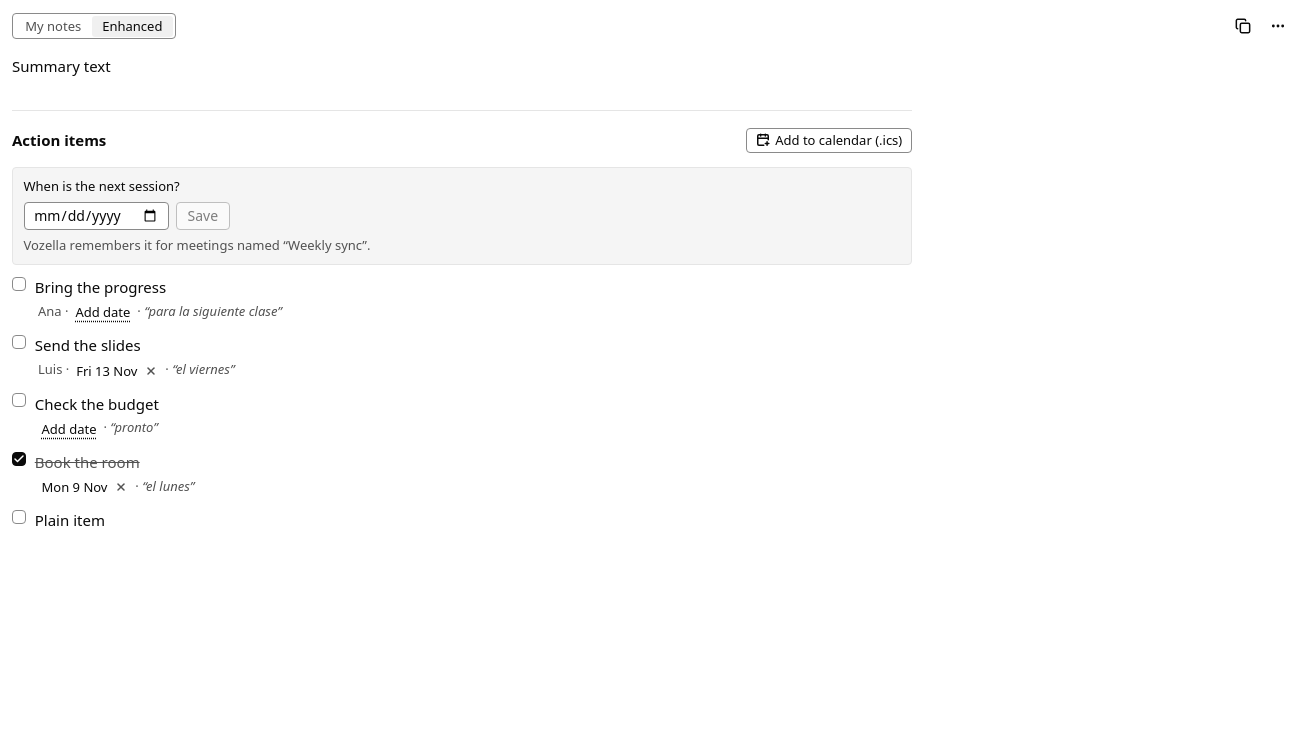
Test: action item details › Escape leaves the date as it was and sends nothing
Click the button with aria-label "Change the date, Fri 13 Nov": (107, 370) [73,360,141,381]
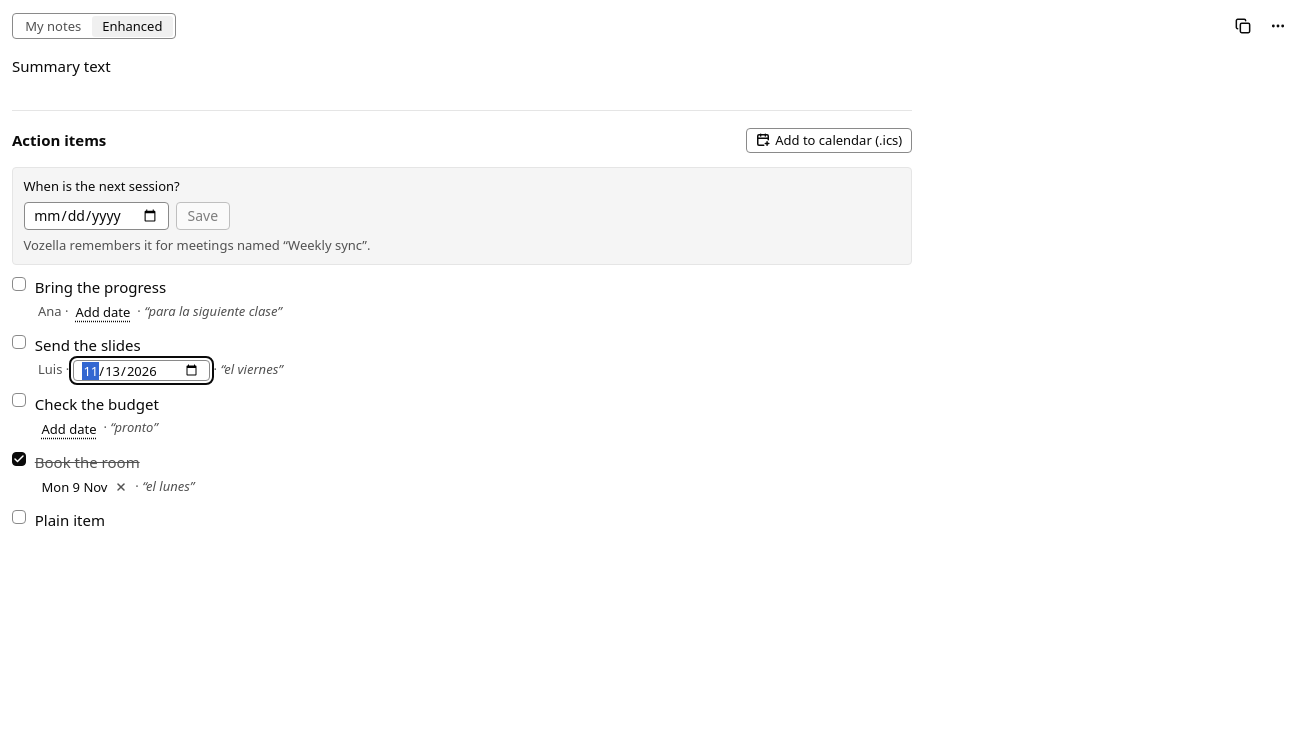
In the date field named "Due date for Send the slides": (141, 370) [73,360,210,381], type "2026-11-20"
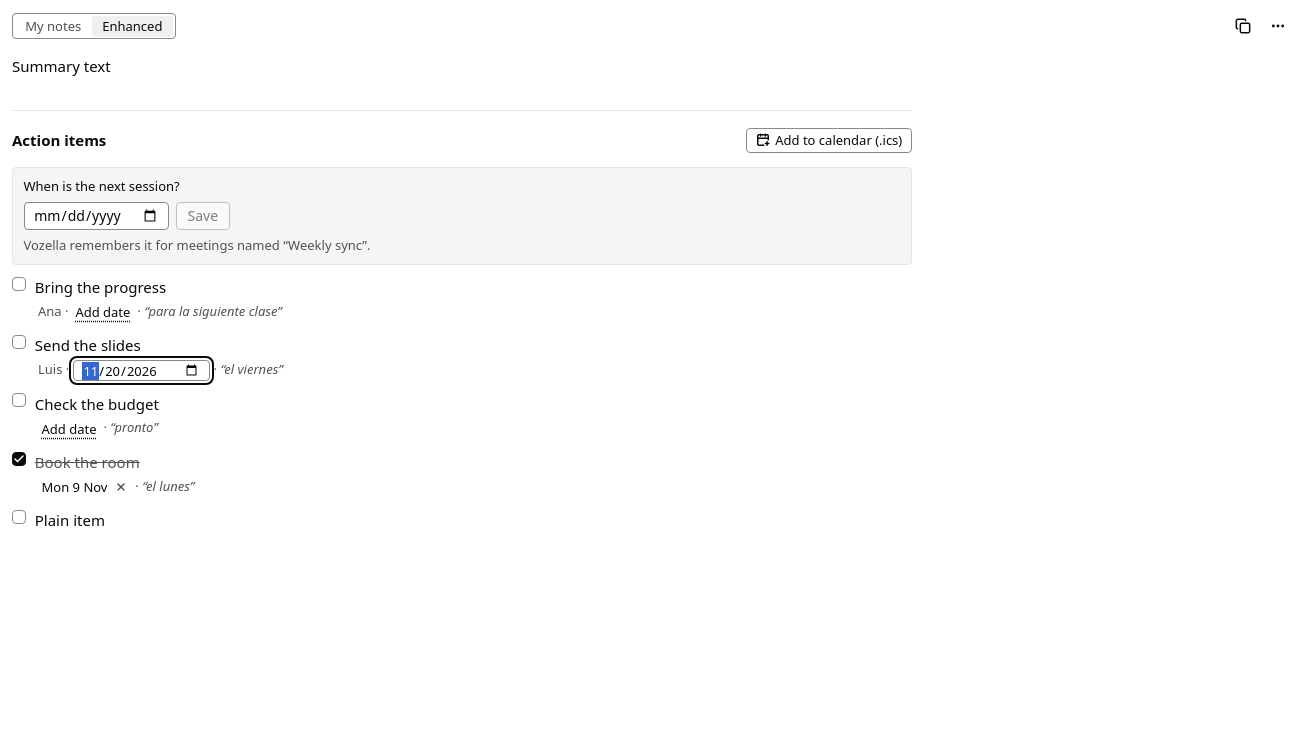
Press Escape in the date field named "Due date for Send the slides", box [73,360,210,381]
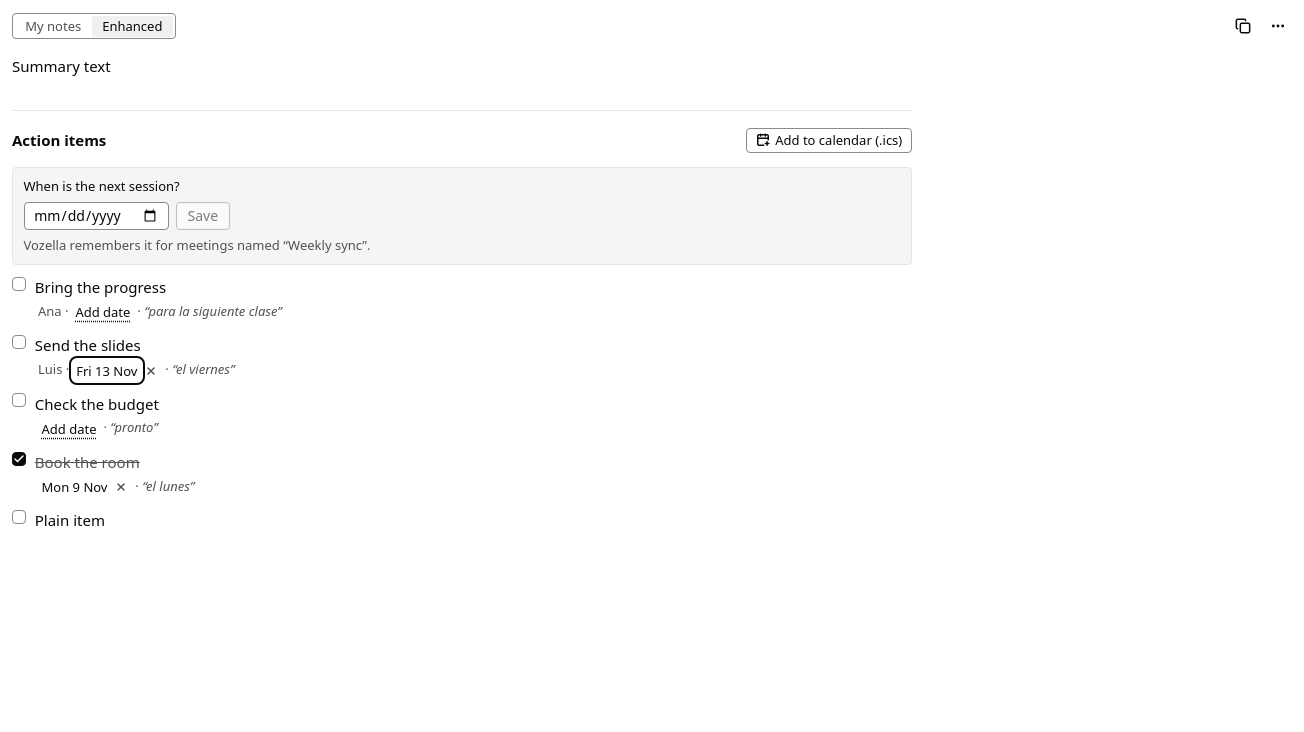
Check: the element with test id "ActionItemMeta" shows "Fri 13 Nov", box [73,360,141,381]
